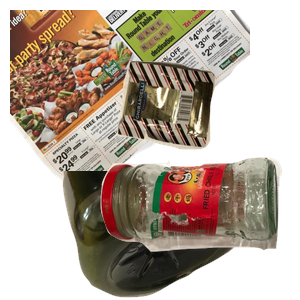glass: (98, 155, 300, 300)
paper: (10, 10, 250, 190)
plastic: (60, 171, 300, 300)
trash: (115, 58, 300, 200)
